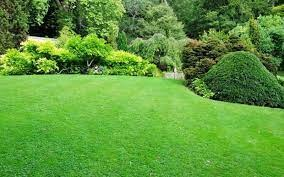grass: (1, 76, 186, 174), (188, 88, 281, 175)
